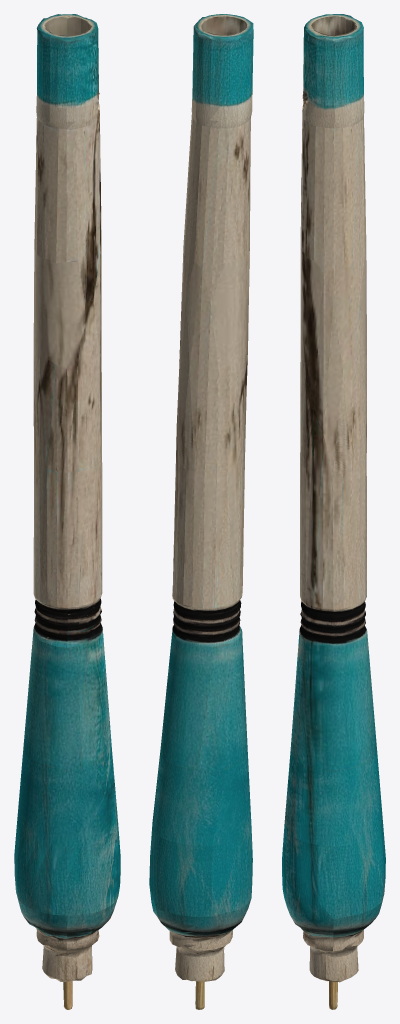
Rendered from bois-flotte.glb.
The picture shows the model from 3 angles, left to right: view 1: azimuth 90°, elevation 25°; view 2: azimuth 210°, elevation 25°; view 3: azimuth 270°, elevation 25°; orthographic projection. The views are drawn at different scales.
Parts seen in each view (by area): view 1: mesh_node; view 2: mesh_node; view 3: mesh_node.
Part boxes in pixels (left/top/right/bottom): mesh_node: left=14, top=14, right=120, bottom=1009; mesh_node: left=149, top=14, right=253, bottom=1009; mesh_node: left=282, top=14, right=385, bottom=1009.
Size of the model in its own units: 0.1018 by 1 by 0.0969.
1 material, 1 textured.
